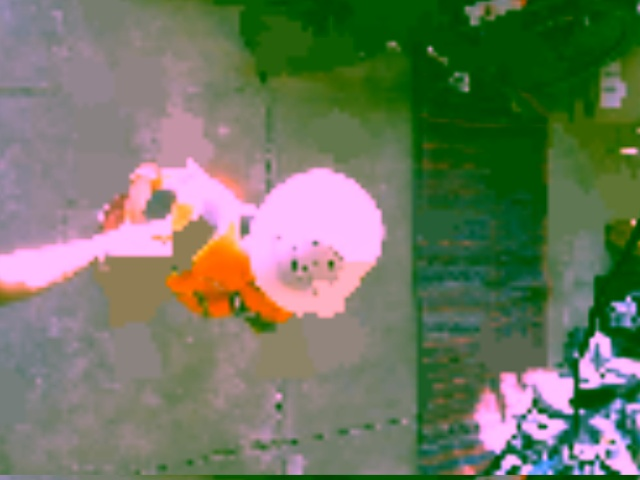two: (293, 240, 345, 282)
